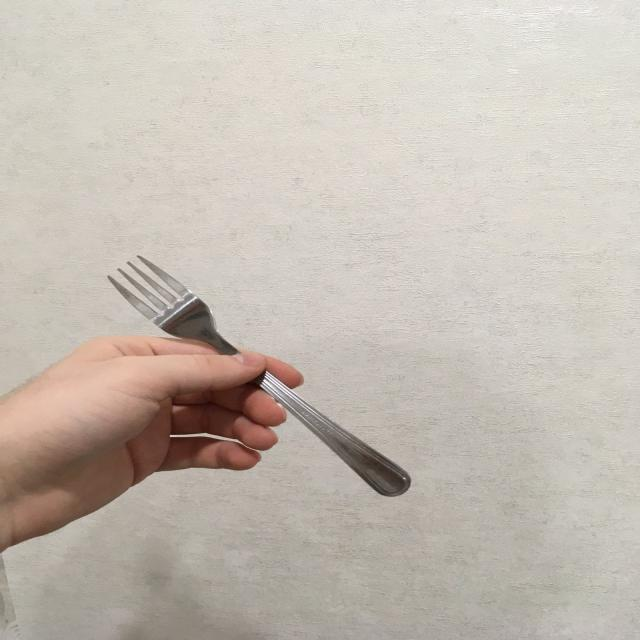fork: (106, 252, 412, 496)
